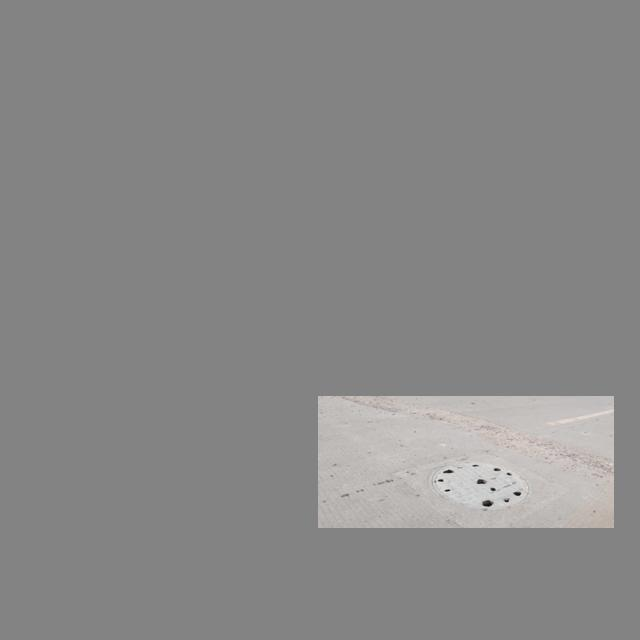broke: (430, 460, 532, 508)
